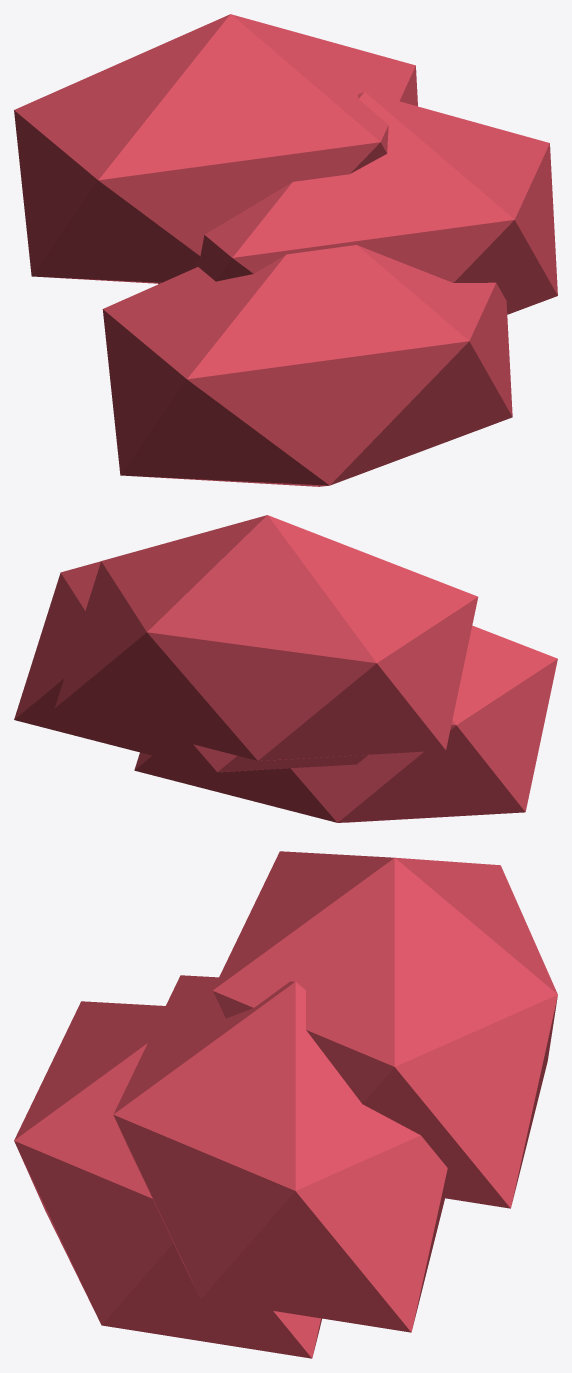
Rendered from item_017_berries_m.glb.
3 renders of one model, top to bottom at view 1: azimuth 30°, elevation 25°; view 2: azimuth 150°, elevation 25°; view 3: azimuth 270°, elevation 25°, orthographic. The views are drawn at different scales.
Parts seen in each view (by area): view 1: item_017_berries_m; view 2: item_017_berries_m; view 3: item_017_berries_m.
Boxes of the visible parts, x1,y1,x2,y2 form: item_017_berries_m: (14, 14, 557, 486); item_017_berries_m: (14, 515, 557, 822); item_017_berries_m: (14, 851, 557, 1358).
Bounding box in the file's own units: 0.3701 × 0.3043 × 0.3286.
